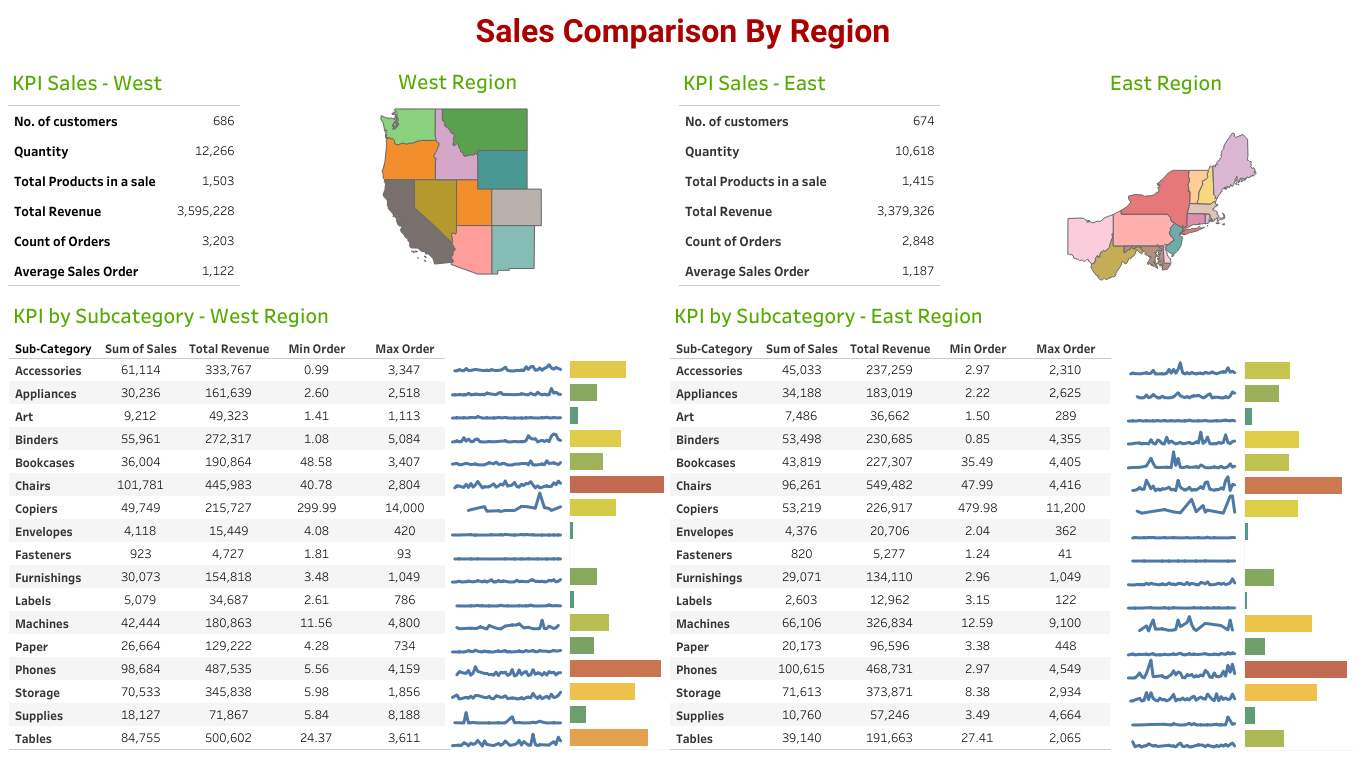

The dashboard page shown, as its layout file describes it:
{"tool":"tableau","page":{"name":"Dashboard 2","canvas":[1366,768],"ordinal":0},"visuals":[{"type":"title","box":[8,8,1350,47]},{"type":"worksheet","title":"West Region","mark":"Multipolygon","box":[270,61,375,225]},{"type":"worksheet","title":"KPI Sales","mark":"Automatic","box":[8,62,246,236]},{"type":"worksheet","title":"KPI Sales (2)","mark":"Automatic","box":[679,62,264,251]},{"type":"worksheet","title":"East Region","mark":"Multipolygon","box":[978,62,376,227]},{"type":"worksheet","title":"KPI Table","mark":"Automatic","rows":["Sub-Category"],"box":[9,295,442,470]},{"type":"worksheet","title":"KPI Table (2)","mark":"Automatic","rows":["Sub-Category"],"box":[670,295,457,464]},{"type":"worksheet","title":"Time series Analysis","mark":"Automatic","rows":["Sub-Category","Calculation_190840071158493186"],"cols":["Order Date"],"box":[445,350,122,398]},{"type":"worksheet","title":"Time series Analysis (2)","mark":"Automatic","rows":["Sub-Category","Calculation_190840071158493186"],"cols":["Order Date"],"box":[1121,353,120,397]},{"type":"worksheet","title":"Relative bar Chart","mark":"Bar","rows":["Sub-Category"],"cols":["Calculation_190840071158493186"],"box":[569,358,101,403]},{"type":"worksheet","title":"Relative bar Chart (2)","mark":"Bar","rows":["Sub-Category"],"cols":["Calculation_190840071158493186"],"box":[1244,359,108,405]}]}

Visuals, with their boxes in screenshot pixels (x1, y1, x2, y2), scaled from the page's 1366x768 canvas onto the 1365x767 screenshot:
title: bbox=(8, 8, 1357, 55)
"West Region" worksheet (Multipolygon marks): bbox=(270, 61, 645, 286)
"KPI Sales" worksheet: bbox=(8, 62, 254, 298)
"KPI Sales (2)" worksheet: bbox=(679, 62, 942, 313)
"East Region" worksheet (Multipolygon marks): bbox=(977, 62, 1353, 289)
"KPI Table" worksheet: bbox=(9, 295, 451, 764)
"KPI Table (2)" worksheet: bbox=(670, 295, 1126, 758)
"Time series Analysis" worksheet: bbox=(445, 350, 567, 747)
"Time series Analysis (2)" worksheet: bbox=(1120, 353, 1240, 749)
"Relative bar Chart" worksheet (Bar marks): bbox=(569, 358, 670, 760)
"Relative bar Chart (2)" worksheet (Bar marks): bbox=(1243, 359, 1351, 763)
